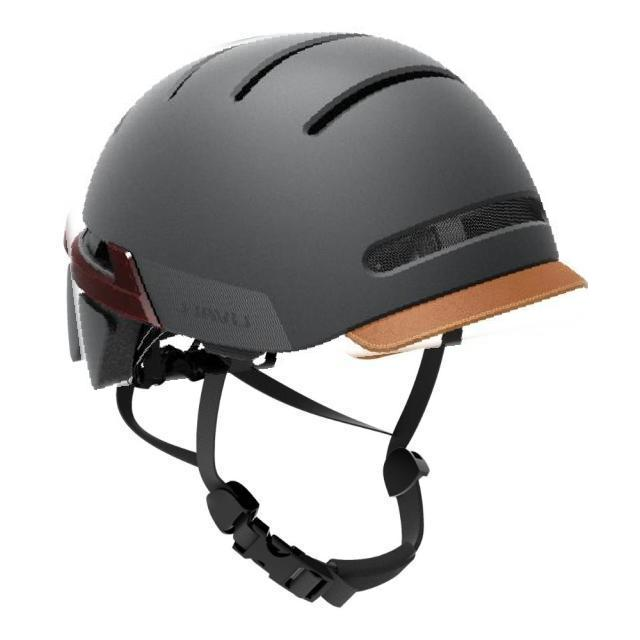helmet: (54, 15, 584, 376)
